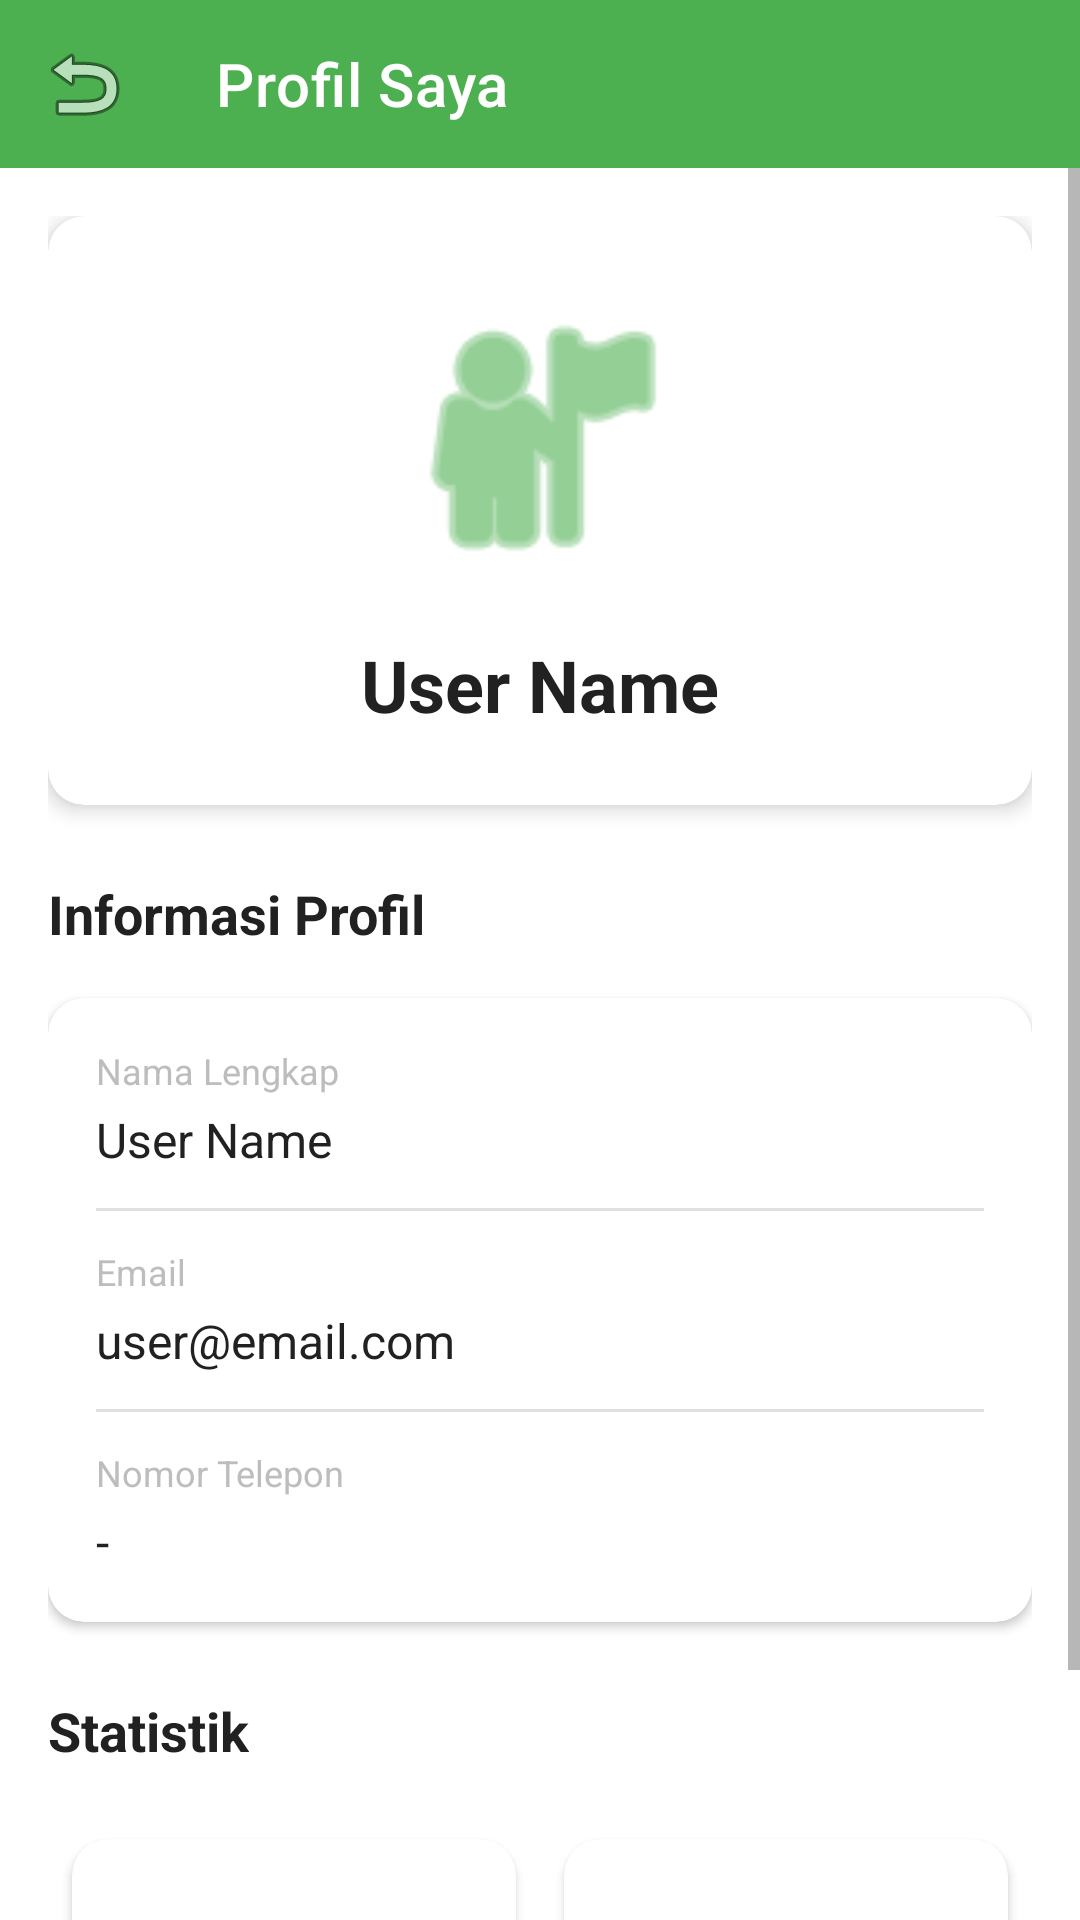

Icon click points for this 1080 × 1920 phone screenshot, format point (x, y):
Profile: point (543, 438)
